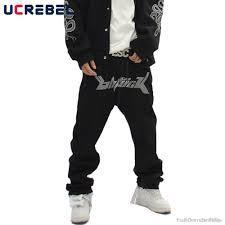pants: (62, 50, 164, 196)
